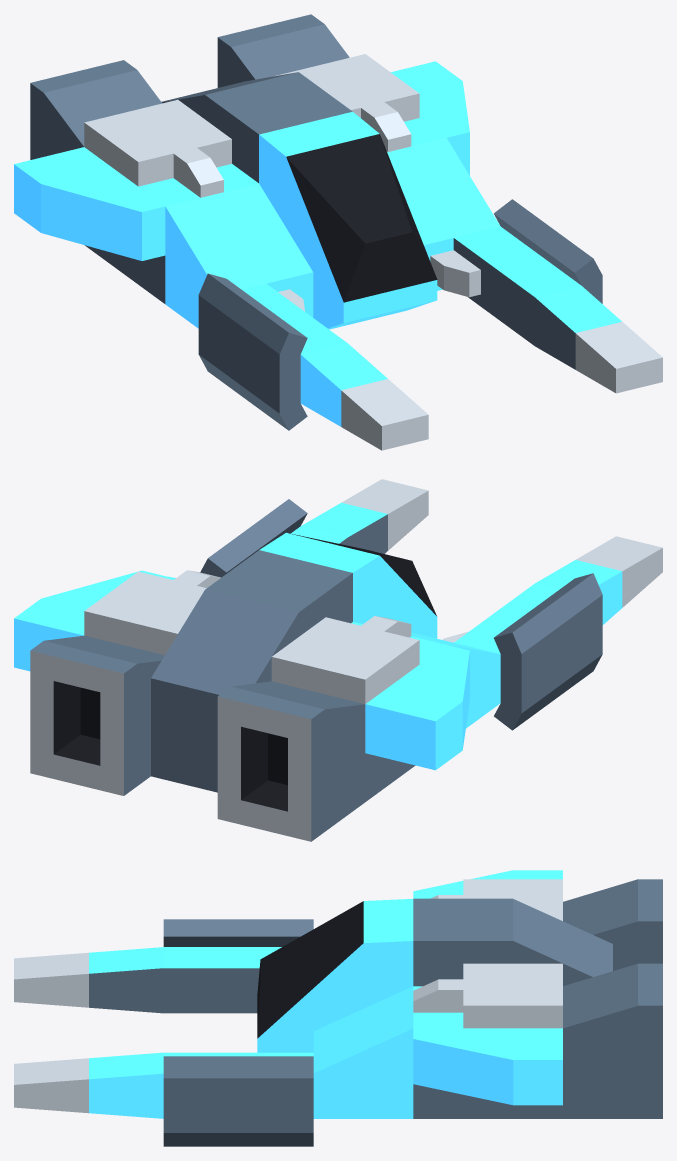
The model's file is glacial.dae.
3 renders of one model, top to bottom at view 1: azimuth 30°, elevation 25°; view 2: azimuth 150°, elevation 25°; view 3: azimuth 270°, elevation 25°, orthographic. The views are drawn at different scales.
Visible parts, largest first — view 1: craft_miner; view 2: craft_miner; view 3: craft_miner.
Part boxes in pixels (x1,y1,x2,y2): craft_miner: (14, 14, 662, 450); craft_miner: (14, 479, 662, 841); craft_miner: (14, 870, 662, 1146).
Bounding box in the file's own units: 1.8 × 0.7 × 2.6.
